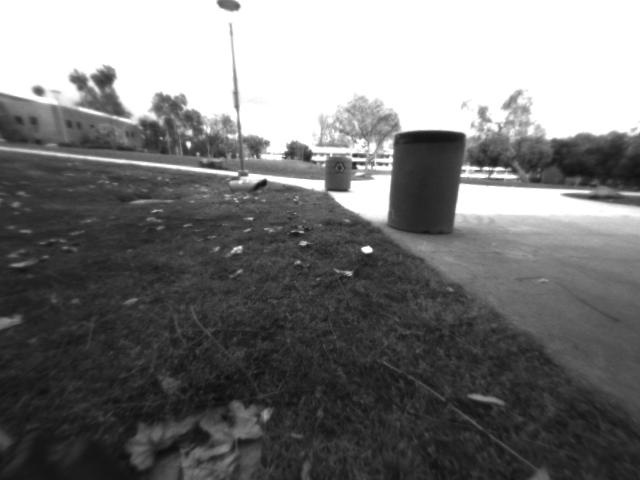trashcan: (383, 119, 472, 241), (322, 151, 356, 196)
